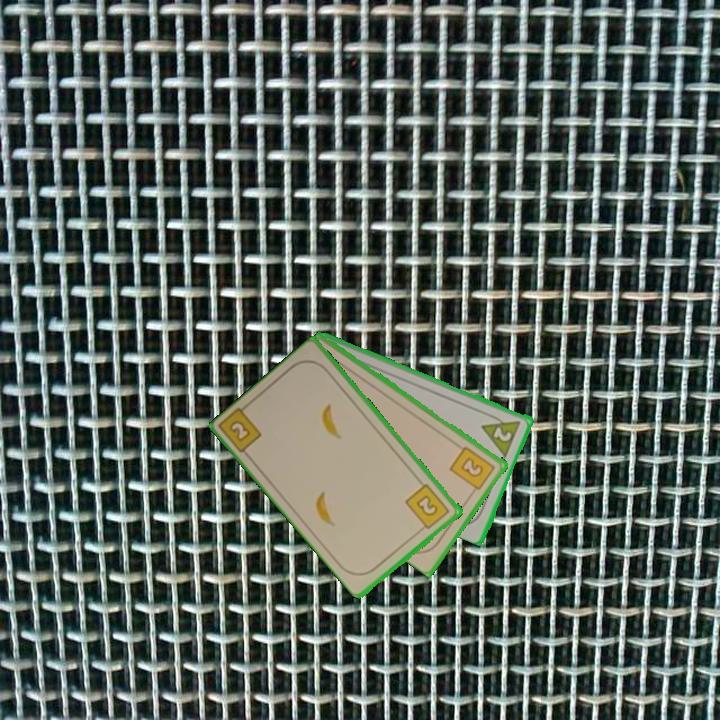2b: (447, 442, 498, 497), (402, 480, 453, 533), (226, 416, 254, 444)
2p: (478, 409, 524, 458)
